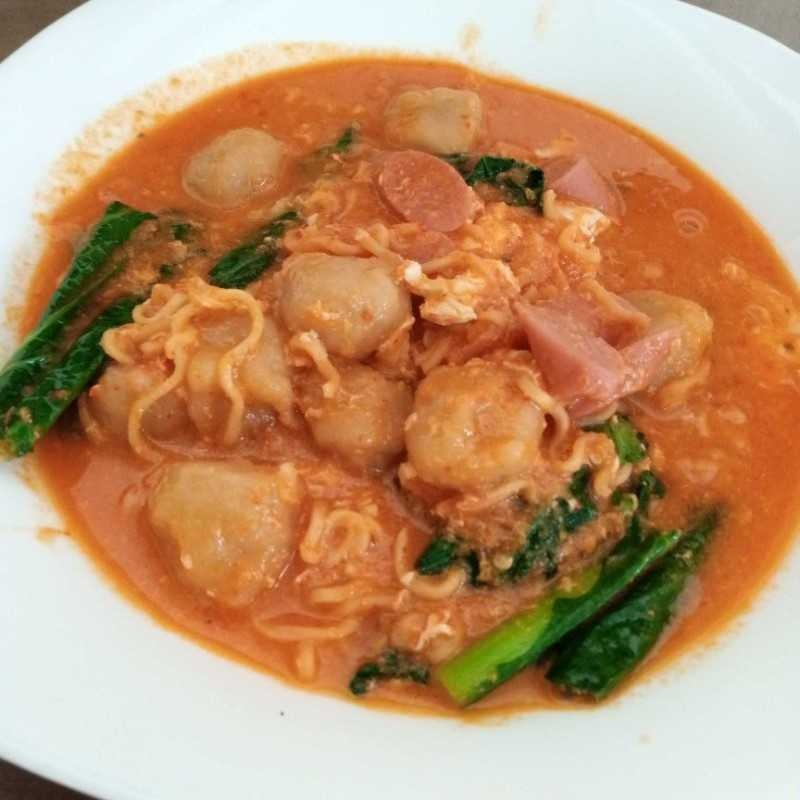seblak: (48, 83, 730, 719)
